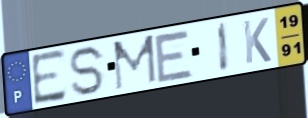E: (152, 29, 196, 85), (29, 47, 69, 108)
I: (217, 20, 232, 74)
K: (241, 16, 274, 66)
M: (111, 33, 159, 93)
S: (67, 44, 107, 98)
